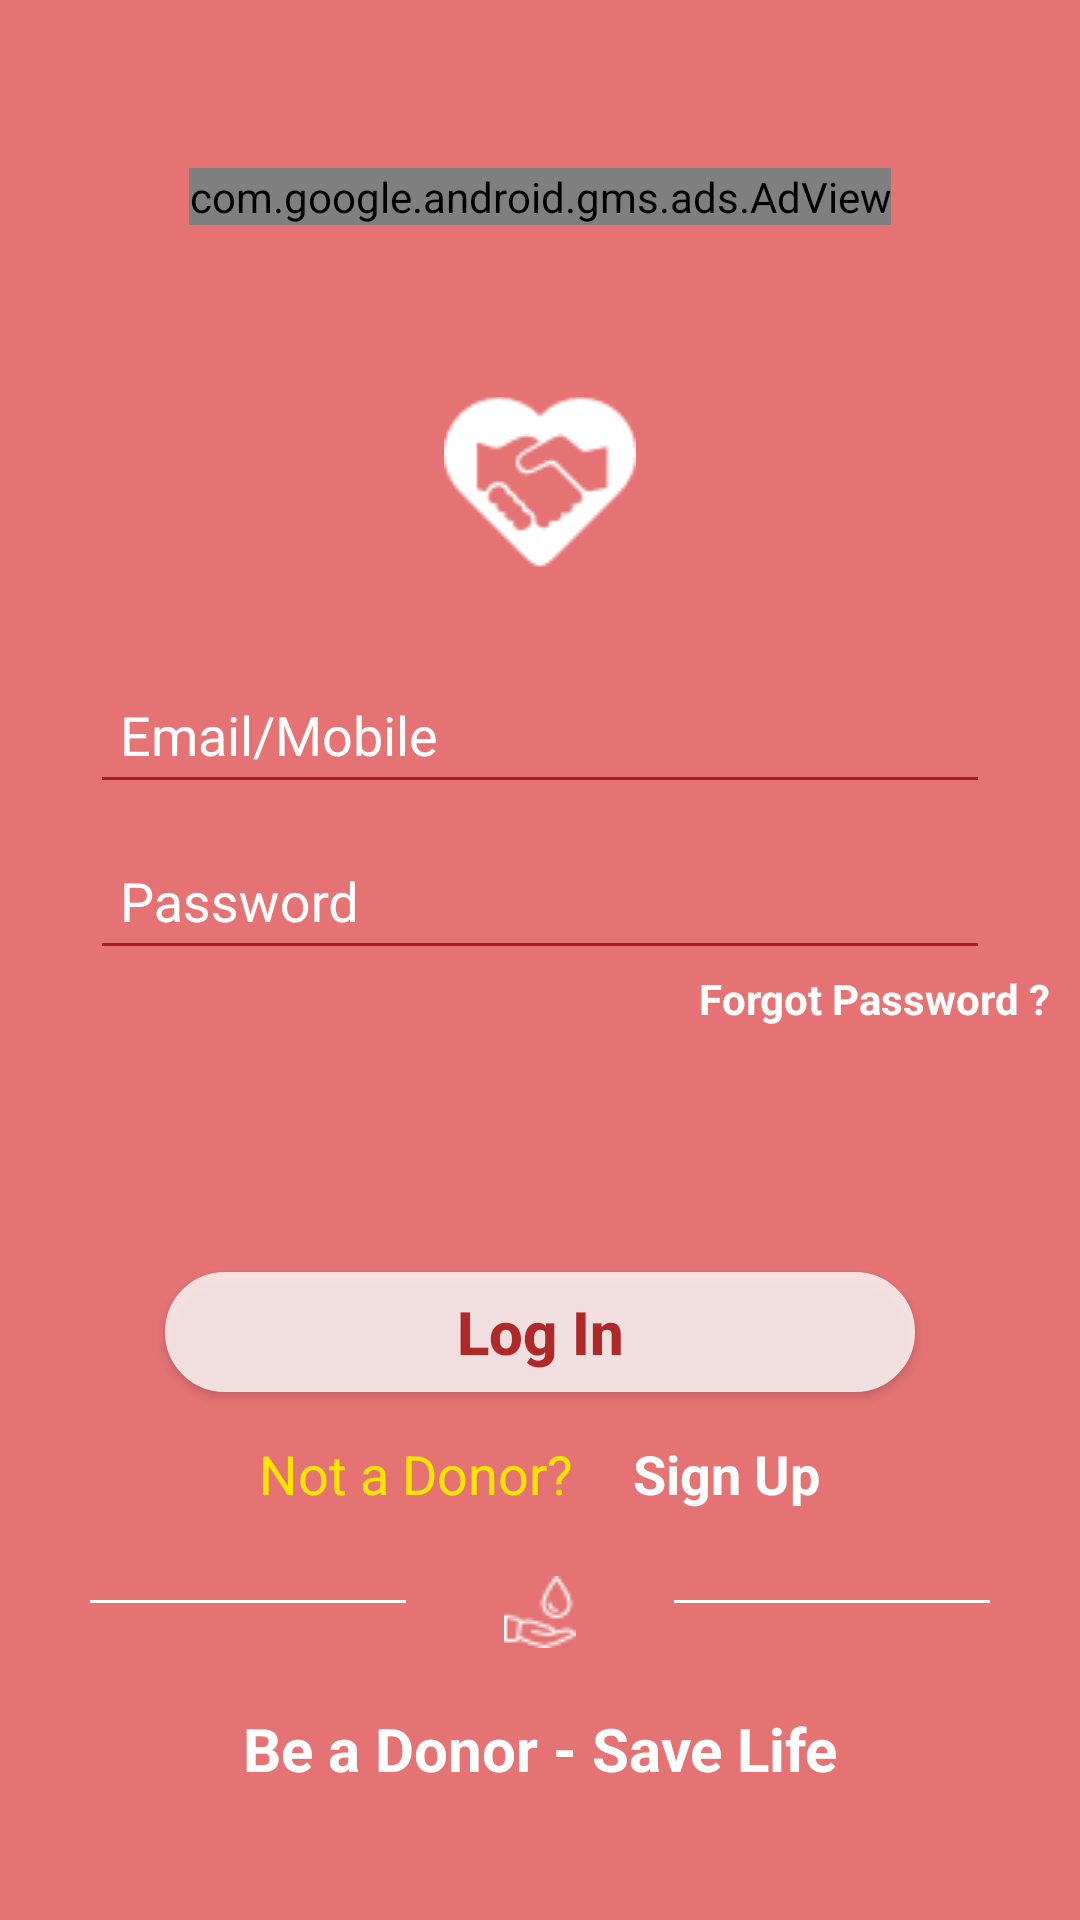

Where icons sit on this 1080w x 1920h app screen, as rect(x1, y1, x2, y2):
blood donor: rect(504, 1576, 576, 1648)
handshake: rect(444, 397, 636, 567)
